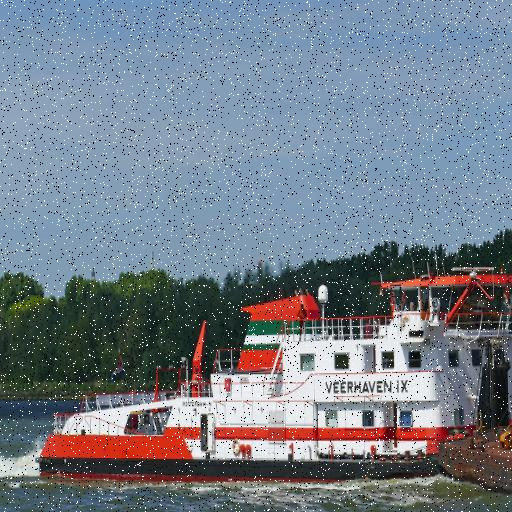tugboat: (34, 243, 512, 496)
